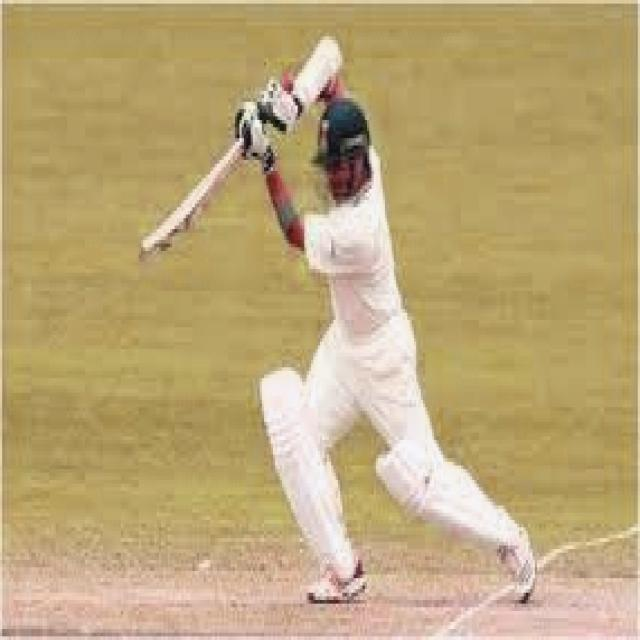toe: (139, 190, 197, 268)
